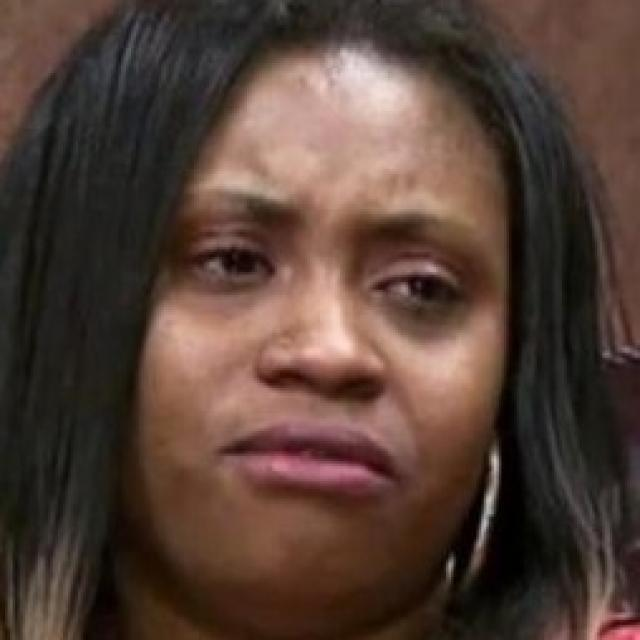Depress: (114, 49, 521, 637)
